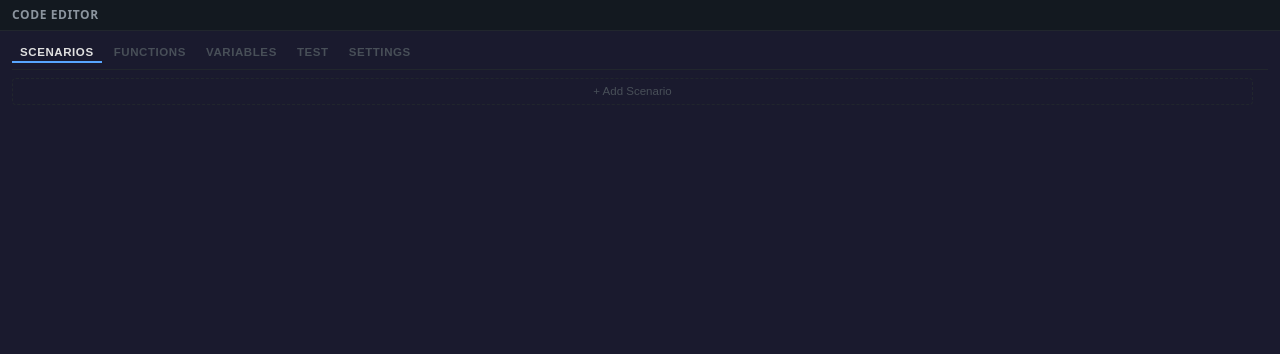
it: findDuplicateNames (via component behavior) › should detect duplicate function names
Click the button "Functions".
click(150, 53)  # box [106,43,194,63]
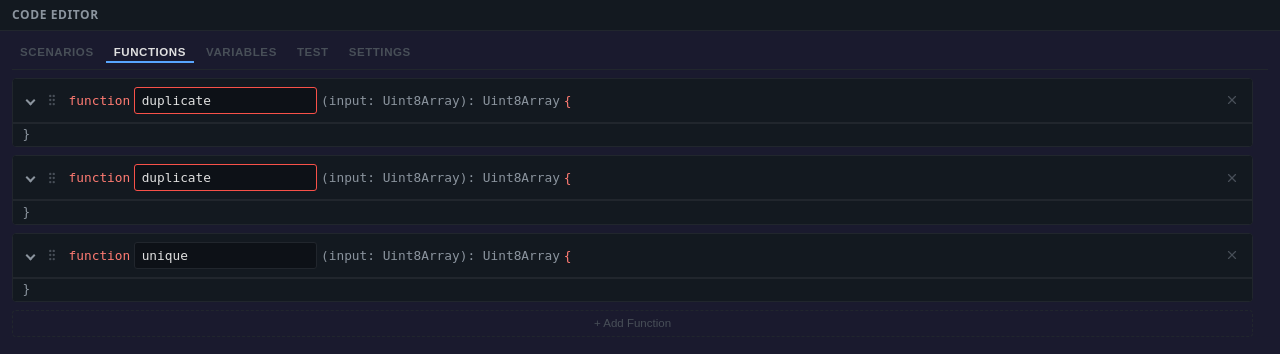
Result: the number of fields with class "input--error" is 2 at [134,87,317,114]; [134,164,317,191]
